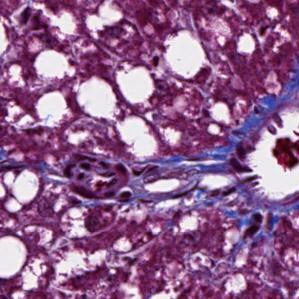steatosis: (166, 30, 208, 81), (114, 63, 154, 101), (29, 50, 75, 80)
